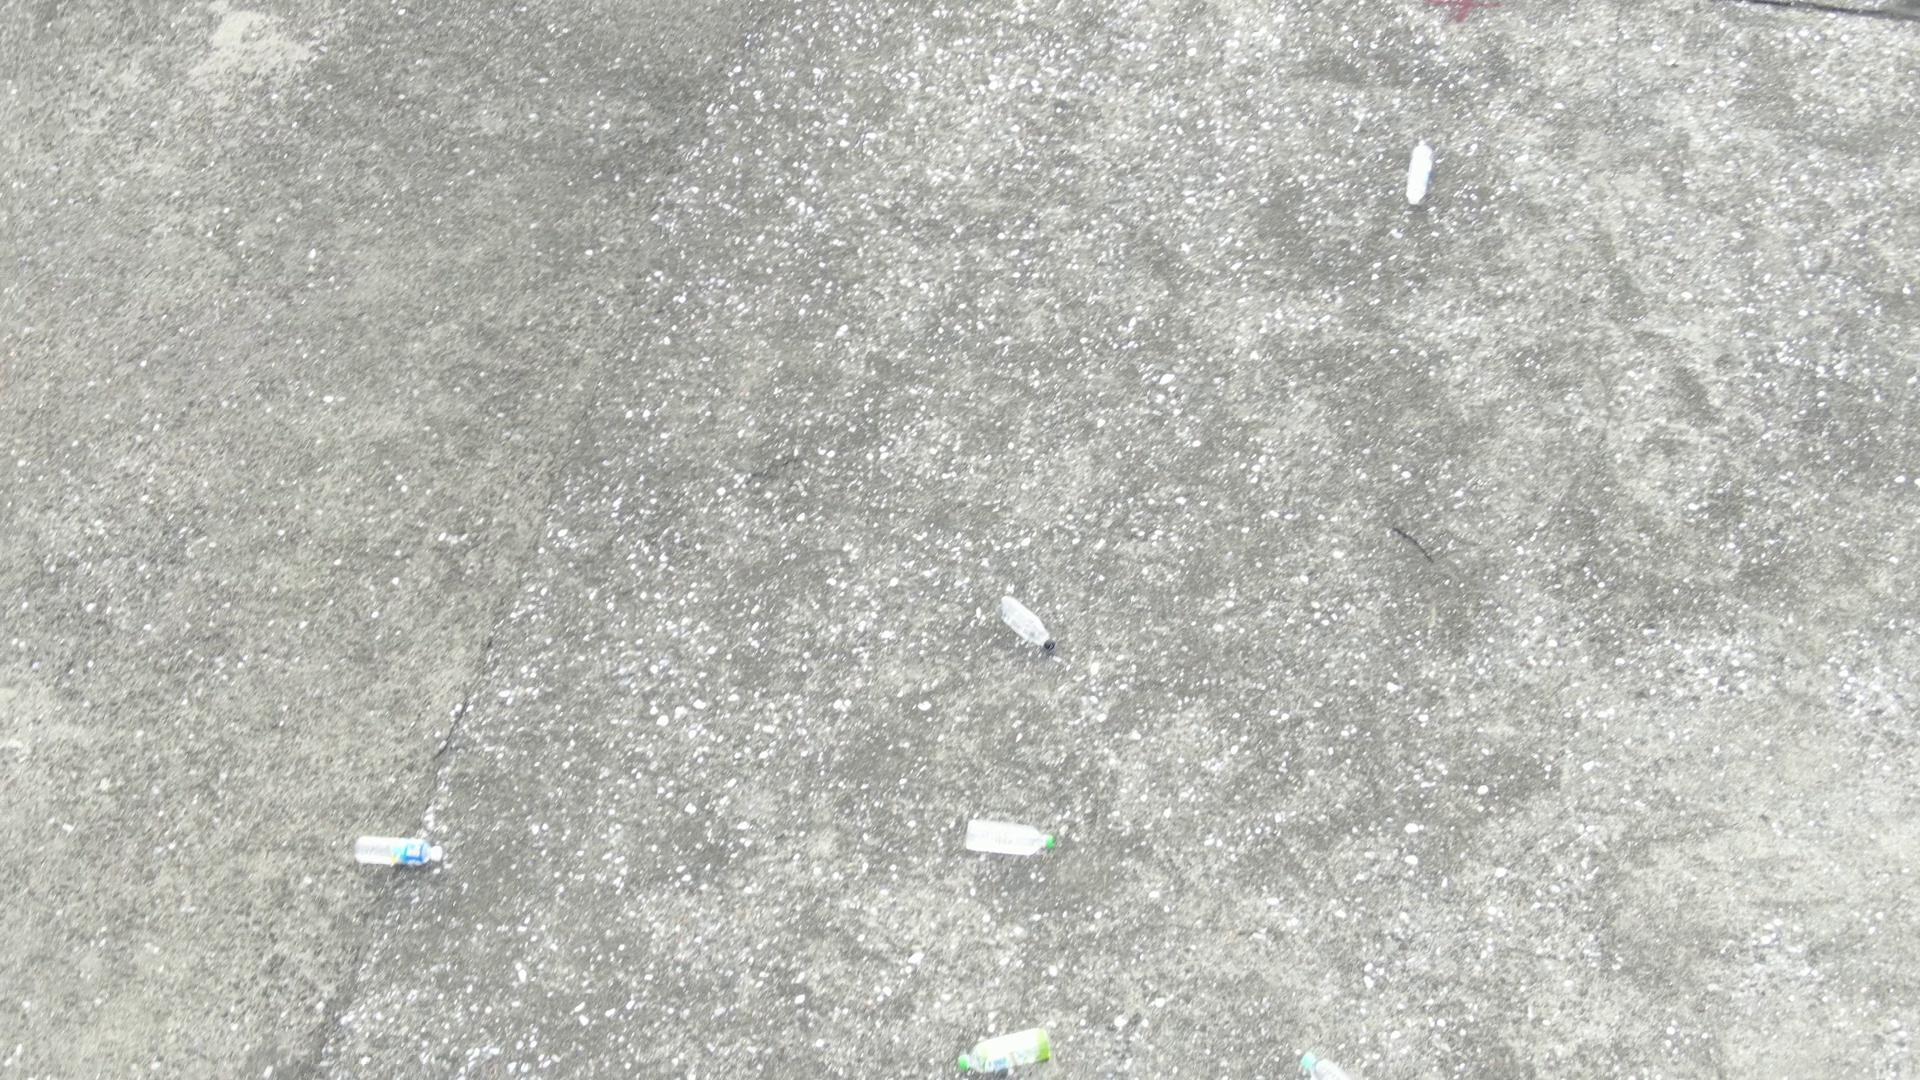bottle: (343, 818, 455, 885), (952, 804, 1062, 870), (948, 1017, 1062, 1080), (992, 585, 1064, 670), (1393, 133, 1448, 218), (1294, 1046, 1386, 1077)
